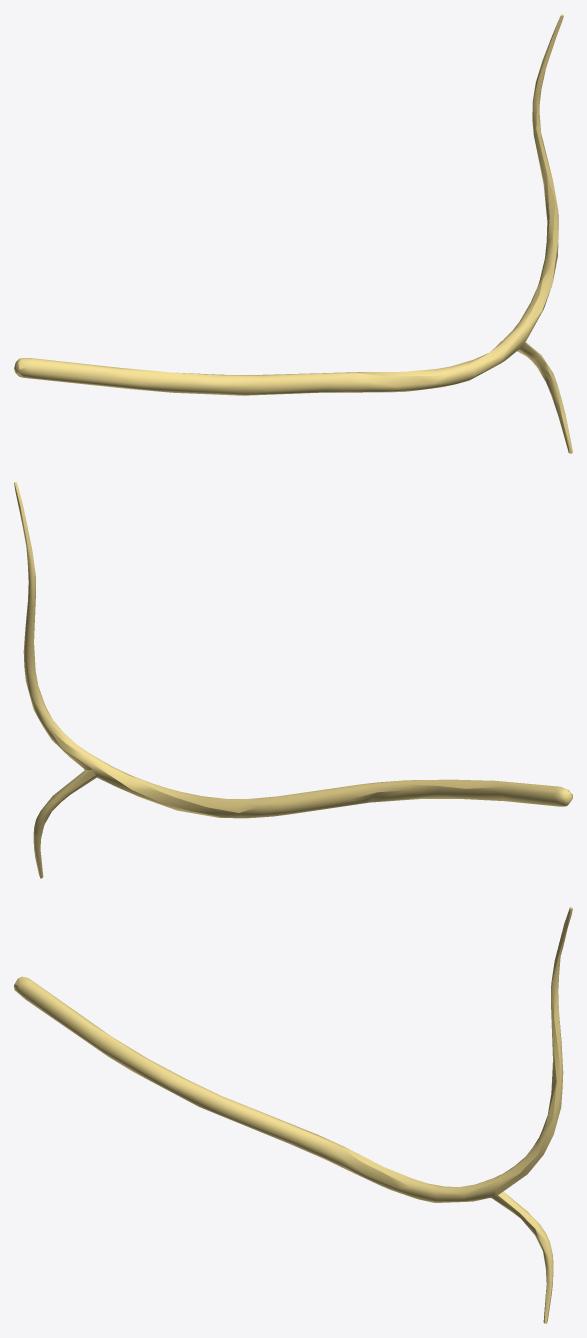
Rendered from fma37074_fj4171.glb.
3 views of the same model, one above another, from view 1: azimuth 30°, elevation 25°; view 2: azimuth 150°, elevation 25°; view 3: azimuth 330°, elevation 25° (orthographic). The views are drawn at different scales.
Visible parts, largest first — view 1: FMA37074_FJ4171; view 2: FMA37074_FJ4171; view 3: FMA37074_FJ4171.
Boxes of the visible parts, x1,y1,x2,y2 form: FMA37074_FJ4171: (14,14,572,453); FMA37074_FJ4171: (14,482,572,878); FMA37074_FJ4171: (14,907,572,1323).
Bounding box in the file's own units: 0.0759 × 0.0545 × 0.0106.
